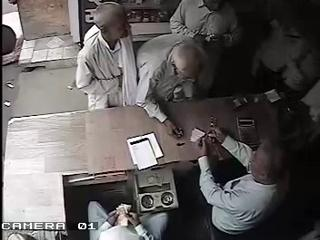Normal: (195, 118, 291, 240), (134, 34, 210, 136), (193, 0, 244, 97), (98, 205, 160, 240), (169, 0, 210, 38)
shoplifting: (74, 1, 138, 111)
